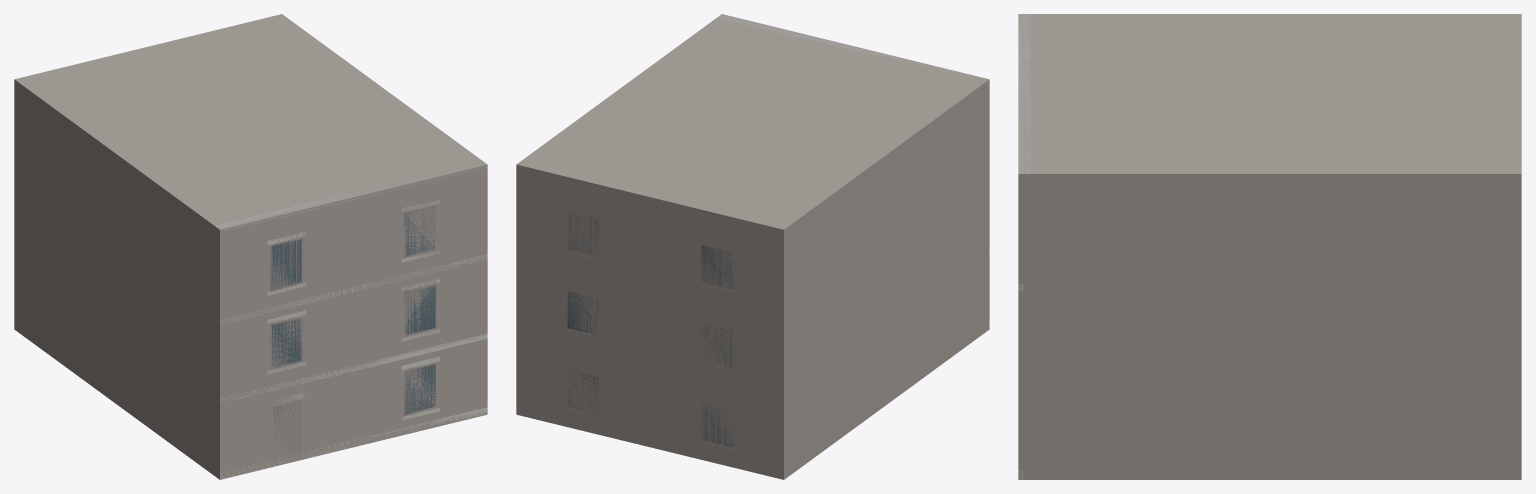
Rendered from terrace_v1.glb.
3 views of the same model, side by side, from view 1: azimuth 30°, elevation 25°; view 2: azimuth 150°, elevation 25°; view 3: azimuth 270°, elevation 25° (orthographic). The views are drawn at different scales.
Visible parts, largest first — view 1: terrace_v1; view 2: terrace_v1; view 3: terrace_v1.
Boxes of the visible parts, left/top/right/bottom form: terrace_v1: left=14, top=14, right=487, bottom=479; terrace_v1: left=516, top=14, right=989, bottom=479; terrace_v1: left=1018, top=14, right=1521, bottom=479.
Bounding box in the file's own units: 11.2 × 10 × 14.9.
